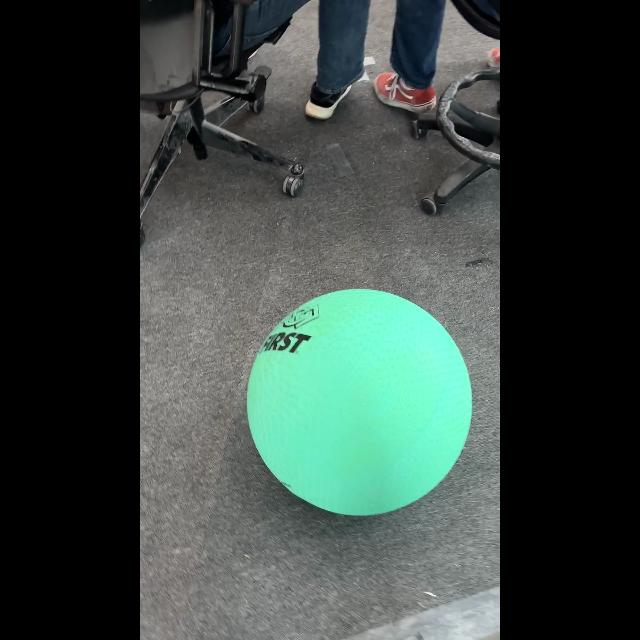ALGAE: (245, 288, 473, 516)
